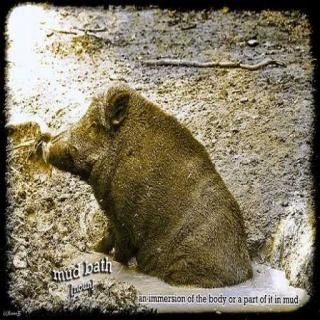Pig: (18, 65, 276, 317)
